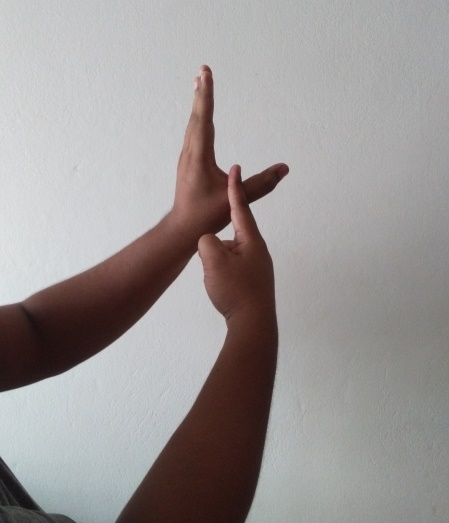dh: (128, 56, 329, 325)
